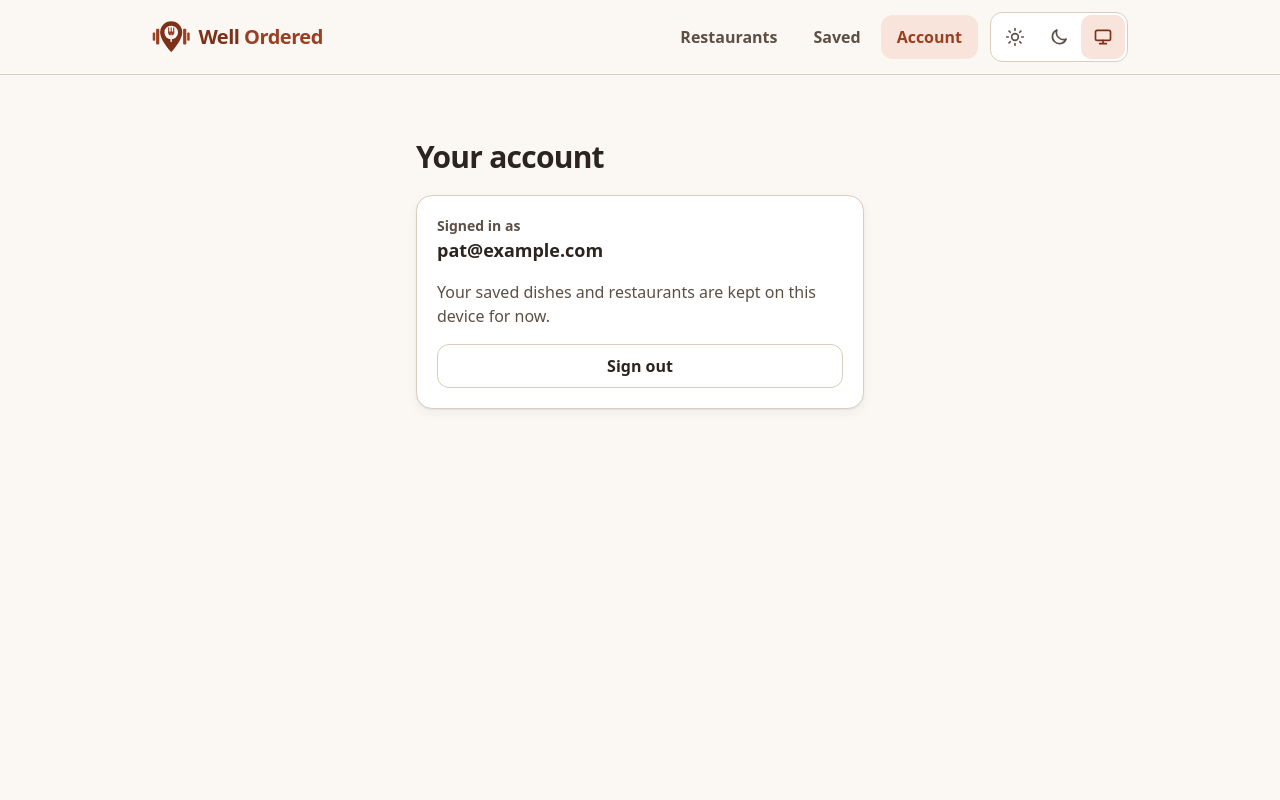
it: account screen › shows the email and signs out back to home
Check: the text "pat@example.com" is shown, box 437,238 -> 603,262
Click the button "Sign out" at (640, 366), box 437,344 -> 843,388
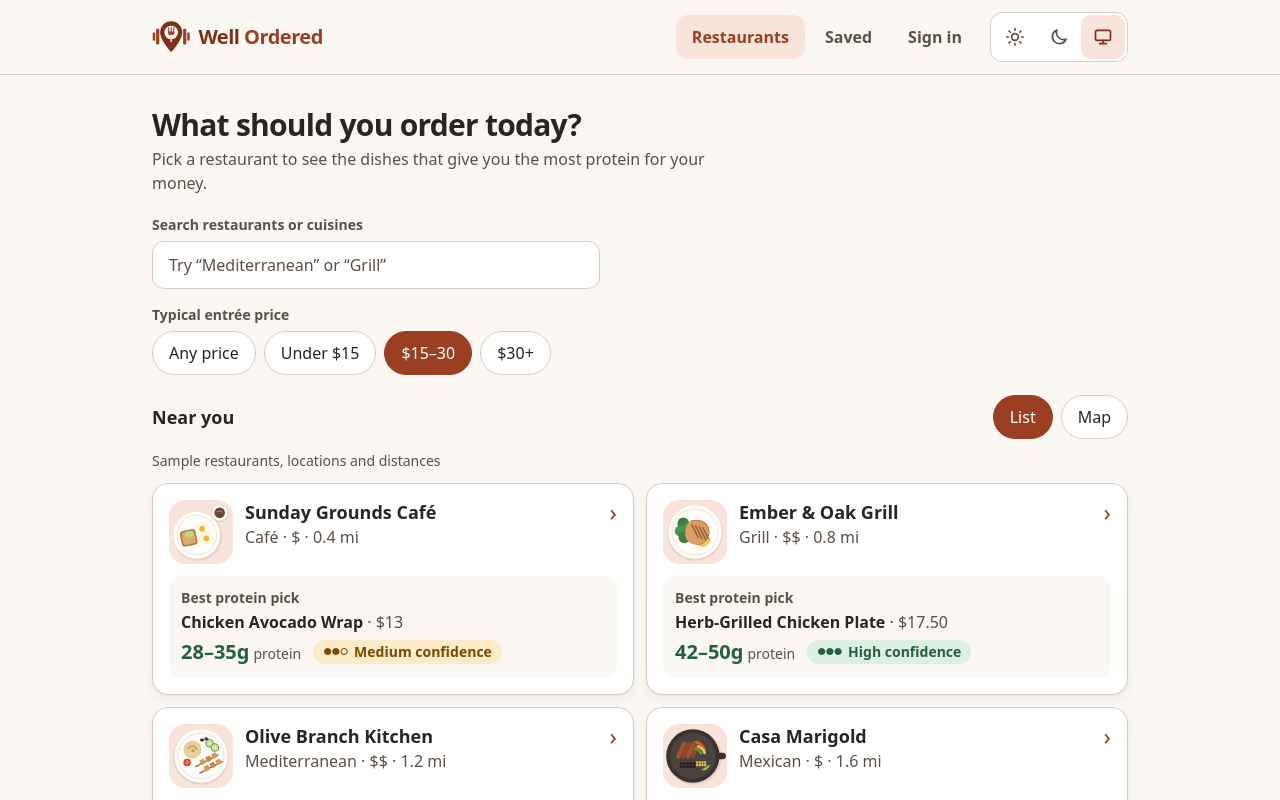
Check: the heading "What should you order today?" is shown, box 152,104 -> 581,145
Check: the link "Sign in" is shown, box 908,26 -> 962,48
